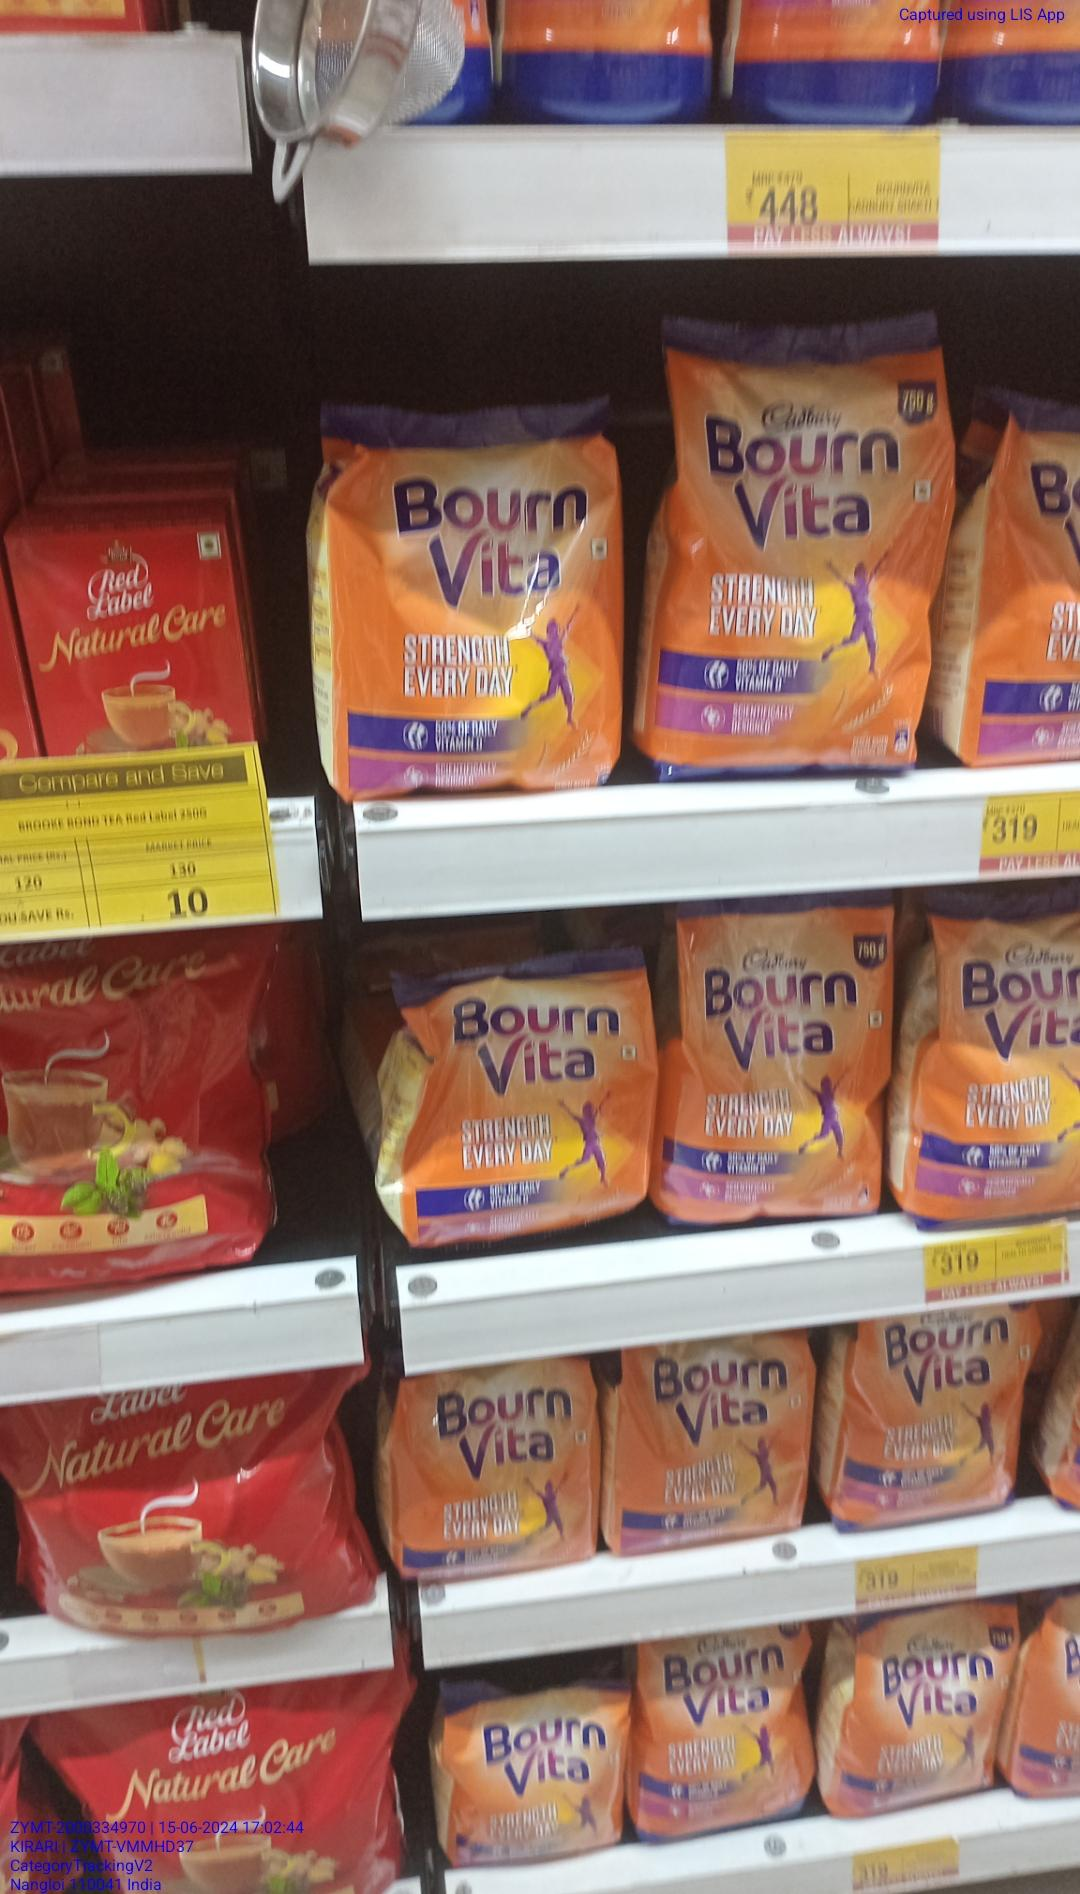BOURN_VITA_500_G_POUCH: (328, 423, 619, 787), (393, 976, 657, 1237)
BOURN_VITA_750_G_POUCH: (643, 330, 926, 775), (662, 903, 893, 1220), (385, 1375, 596, 1570), (610, 1349, 812, 1551), (833, 1322, 1027, 1528), (828, 1610, 1002, 1804), (445, 1668, 626, 1851), (636, 1646, 808, 1828)
